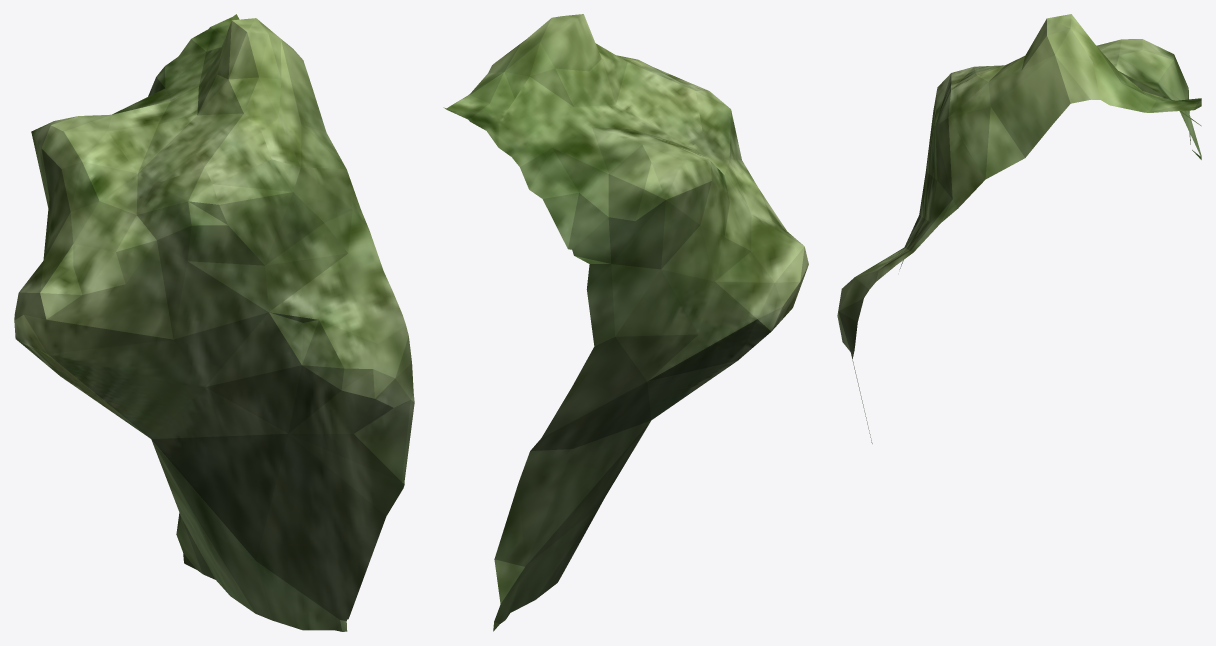
3 renders of one model, left to right at view 1: azimuth 30°, elevation 25°; view 2: azimuth 150°, elevation 25°; view 3: azimuth 270°, elevation 25°, orthographic. The views are drawn at different scales.
Size of the model in its own units: 1.08 by 2.09 by 1.18.
1 material, 1 textured.
